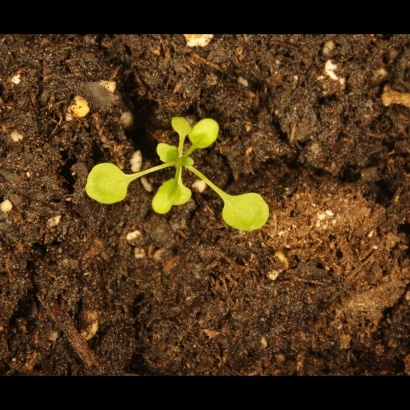leaf: (77, 160, 137, 210), (222, 186, 272, 237), (149, 175, 181, 221), (186, 116, 227, 151), (147, 137, 187, 168), (164, 109, 199, 144), (171, 177, 201, 214)
